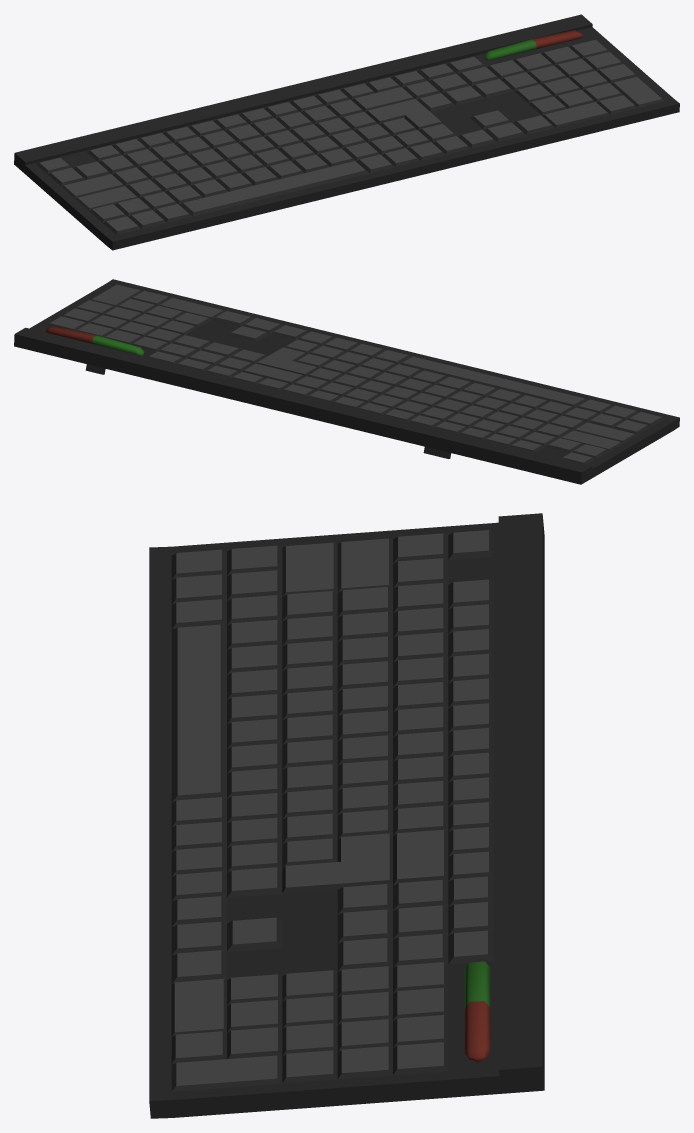
The model's file is Teclado.fbx.
3 views of the same model, one above another, from view 1: azimuth 30°, elevation 25°; view 2: azimuth 150°, elevation 25°; view 3: azimuth 270°, elevation 25° (orthographic). The views are drawn at different scales.
Parts seen in each view (by area): view 1: Teclado; view 2: Teclado; view 3: Teclado.
Part boxes in pixels (x1,y1,x2,y2): Teclado: (14, 14, 679, 250); Teclado: (14, 279, 679, 484); Teclado: (149, 513, 544, 1118).
Bounding box in the file's own units: 208 × 9.64 × 62.73.
